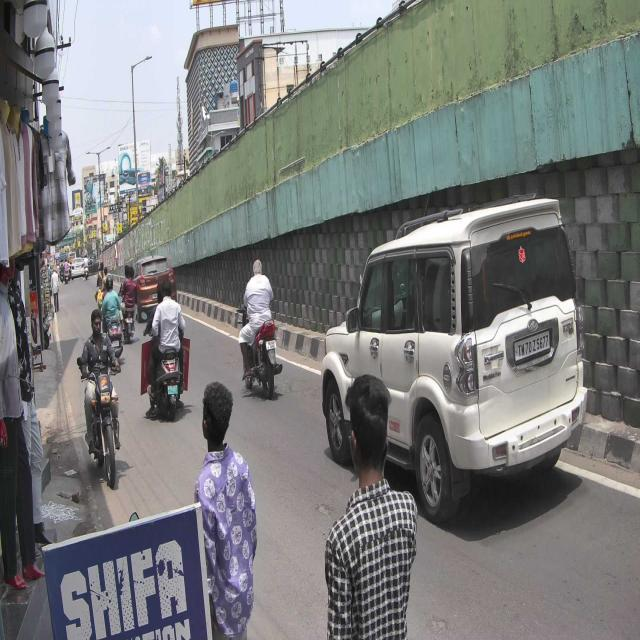single_rider: (78, 307, 124, 492), (238, 257, 282, 398)
